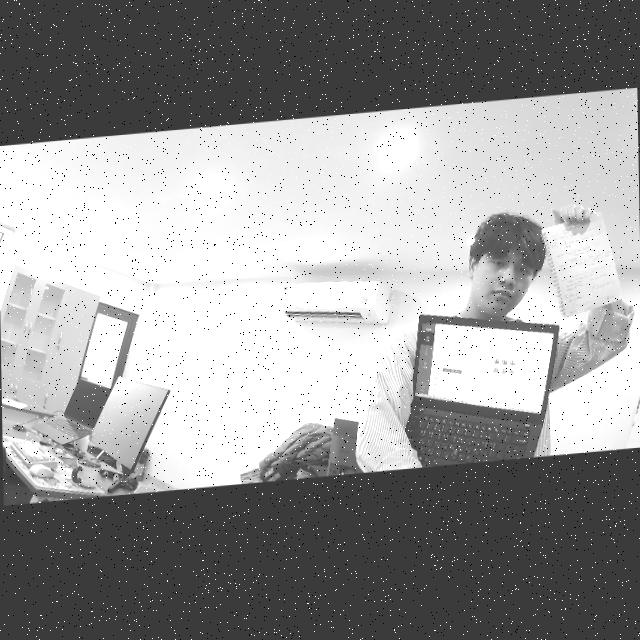document: (541, 212, 623, 318)
face: (471, 207, 533, 318)
